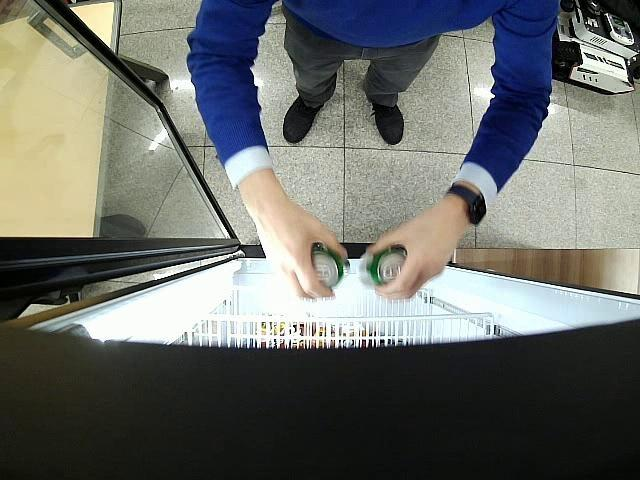12_chilsungCider: (357, 246, 408, 289), (311, 243, 351, 287)
